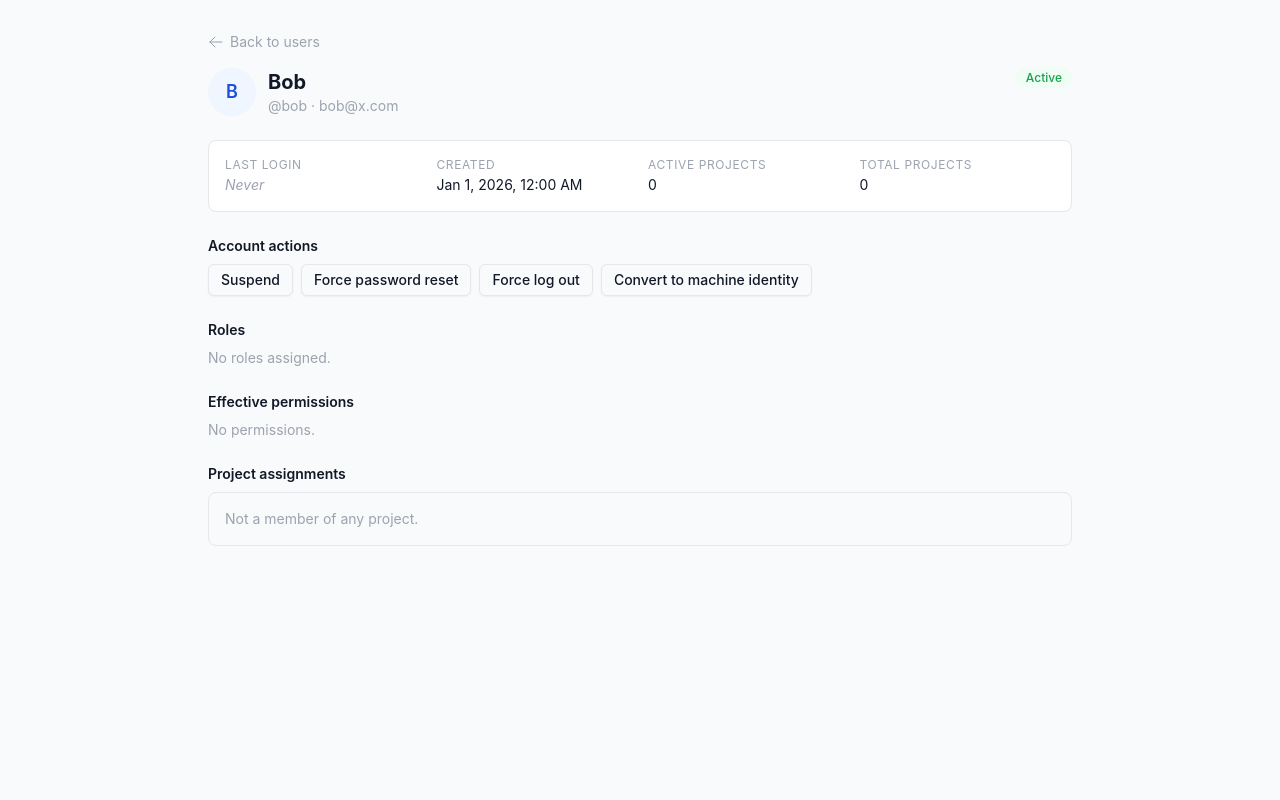
it: UserDetailPage — convert to machine identity › falls back to the username and omits the suspended note when keeping the source user
Click the button "Convert to machine identity": x=706, y=280 [601,264,812,296]
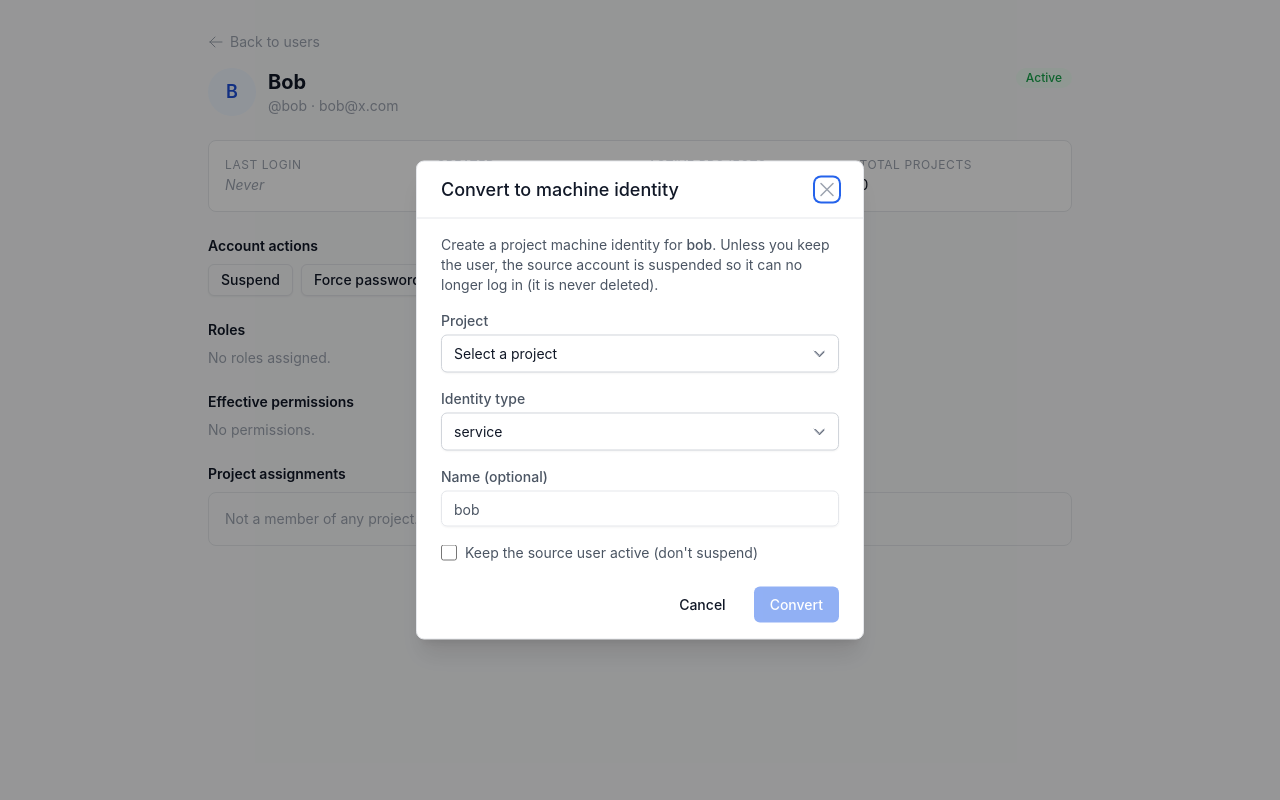
Select "platform" in the dropdown labelled "Project": x=640, y=354 [441,334,839,372]
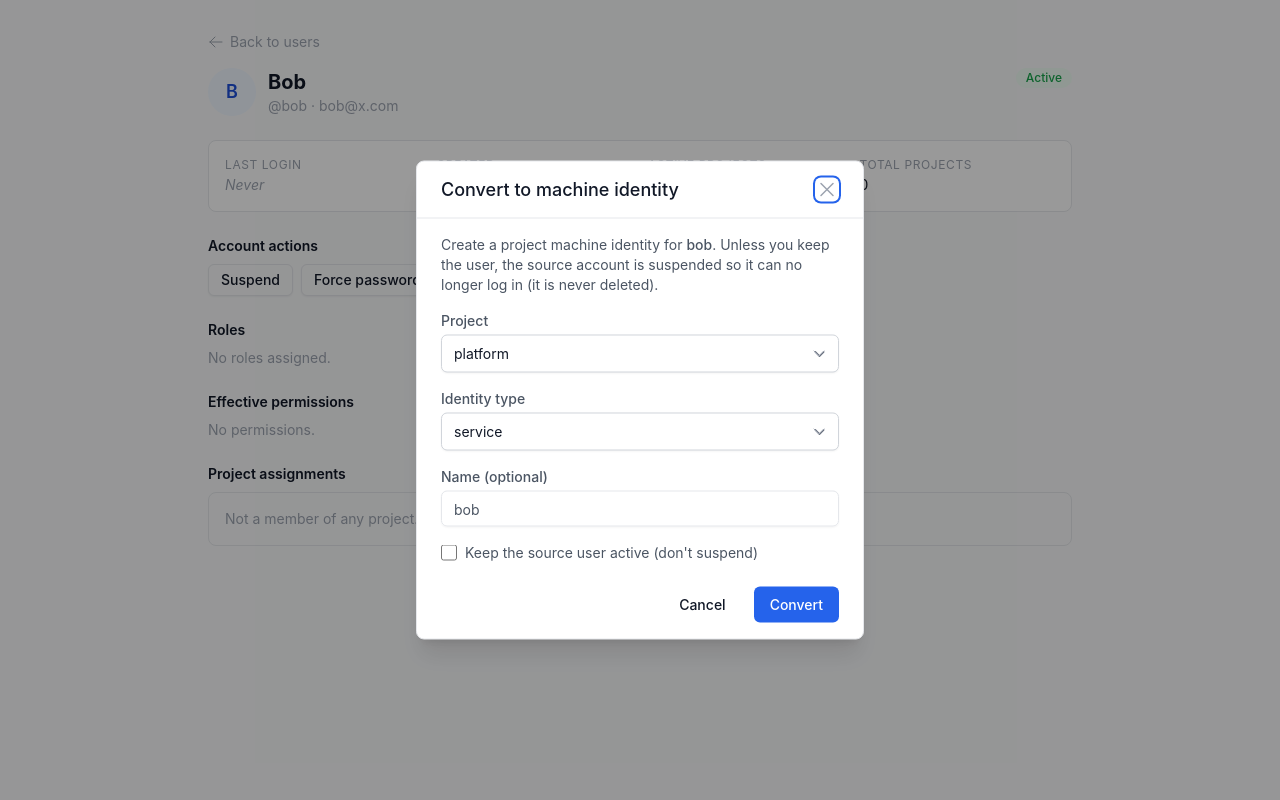
Click the checkbox labelled "Keep the source user active (don't suspend)": x=449, y=552 [441,544,457,560]
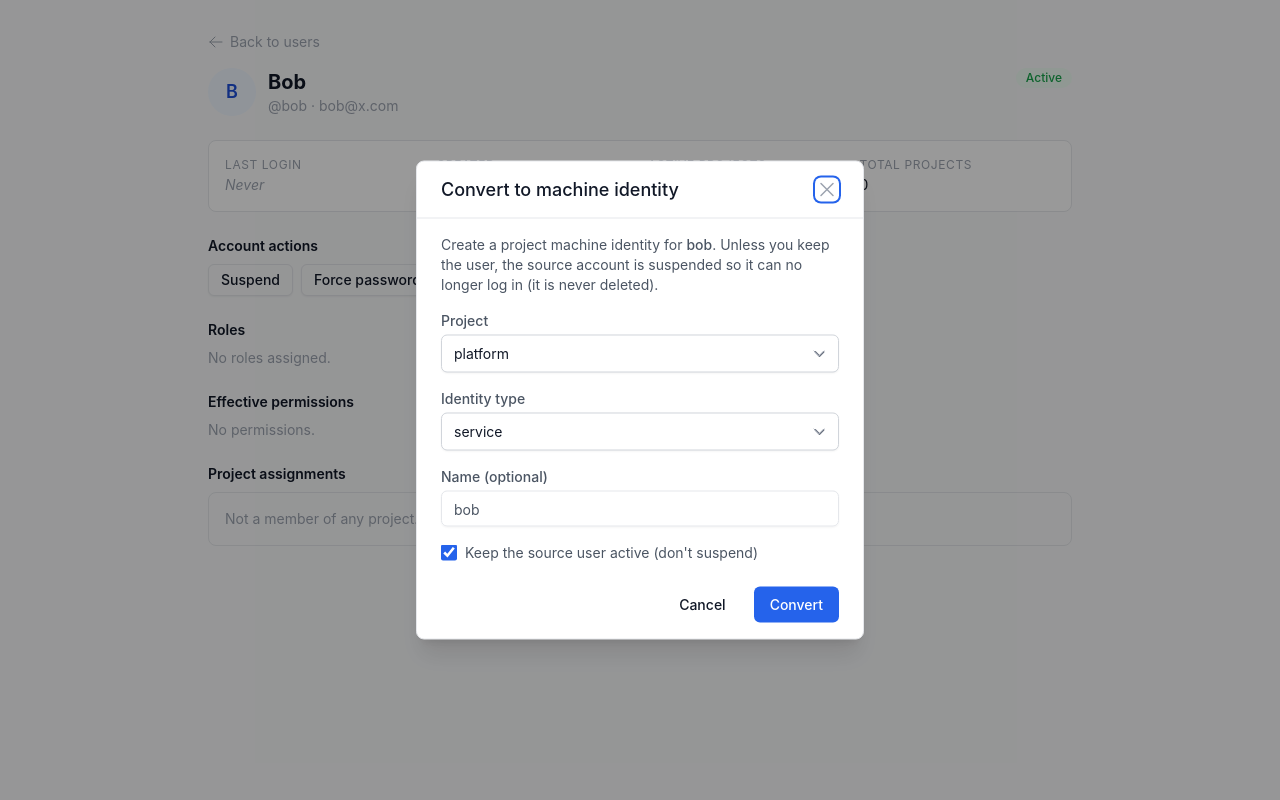
Click the button "Convert": x=796, y=604 [754,586,839,622]
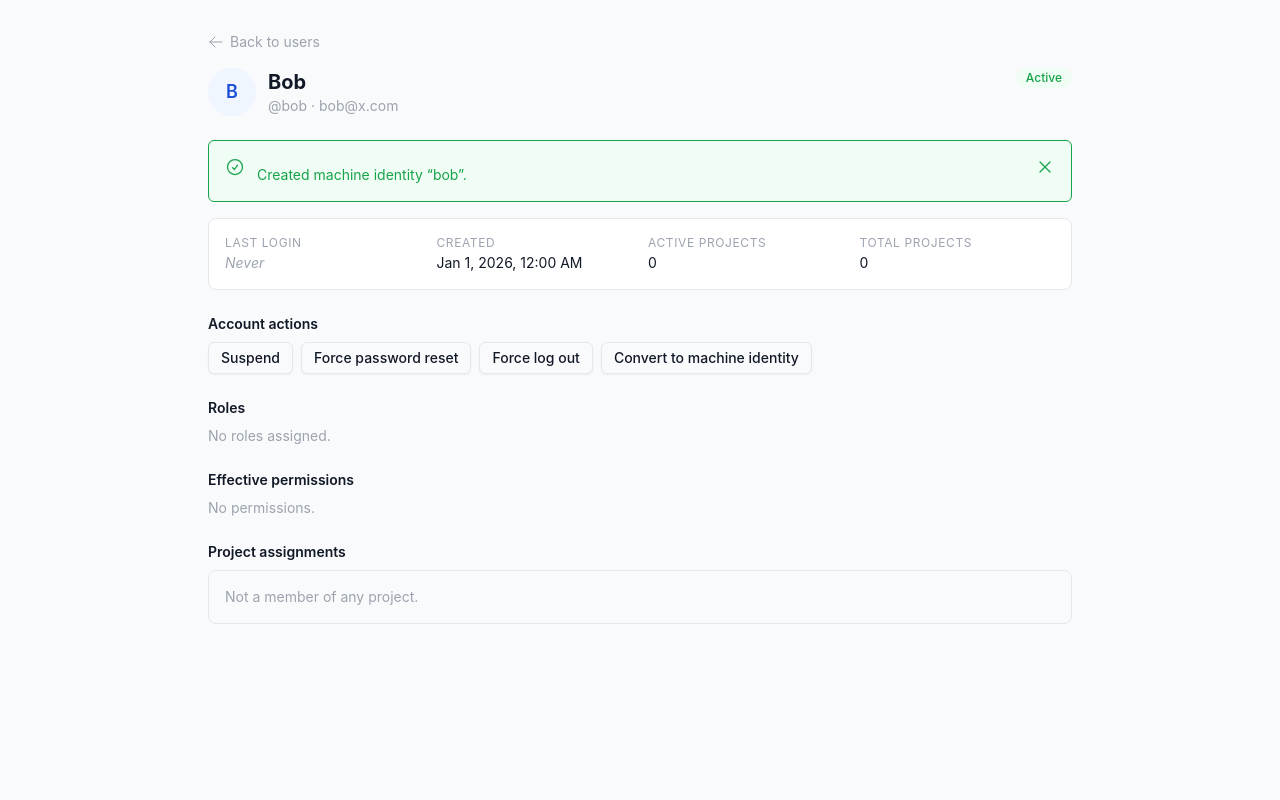
expect the text "Created machine identity “bob”." is shown: met, box [257,166,467,183]
